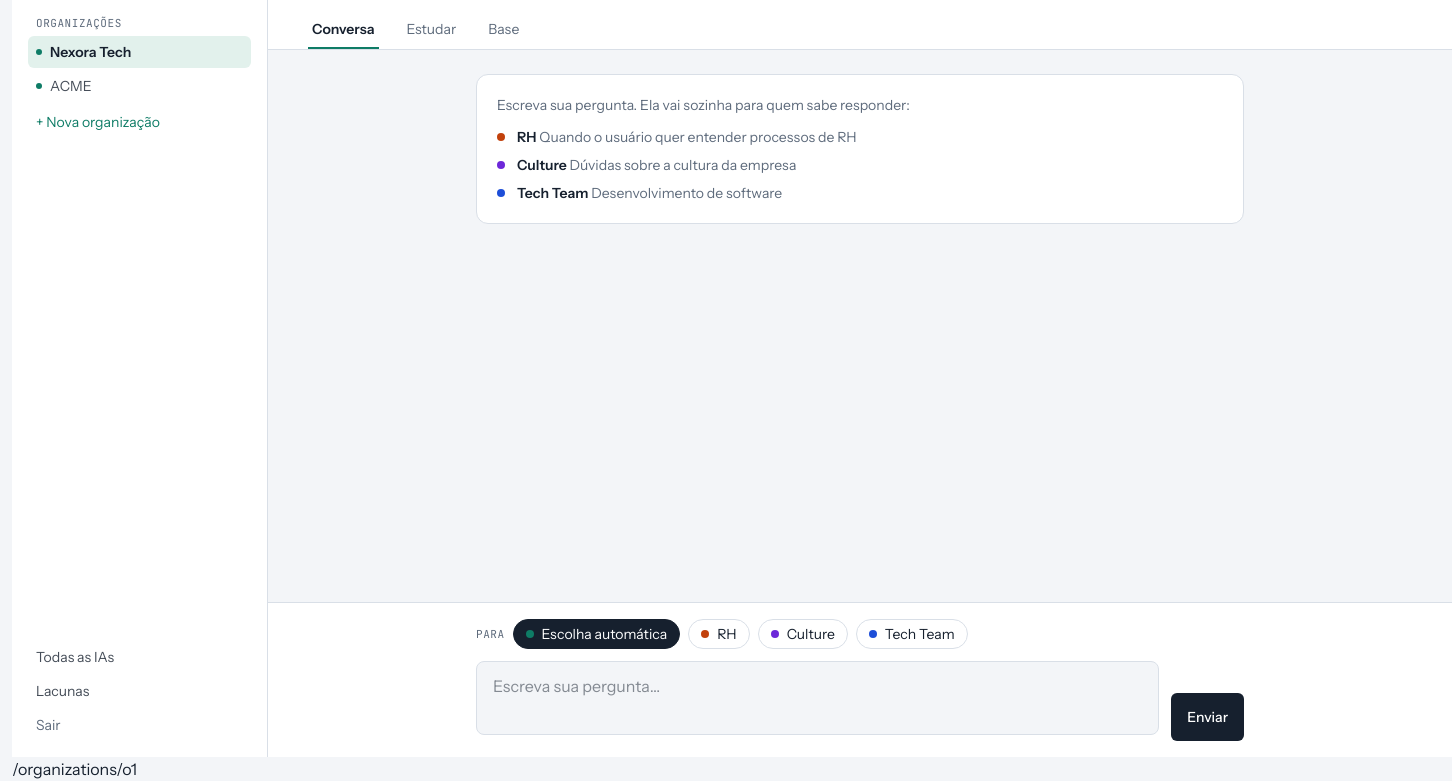
Test: organization chat › pinned assistant is asked directly
The width and height of the screenshot is (1452, 781).
(page scrolled)
Click the radio button labelled "Tech Team".
click(912, 634)  # box [856,619,968,649]
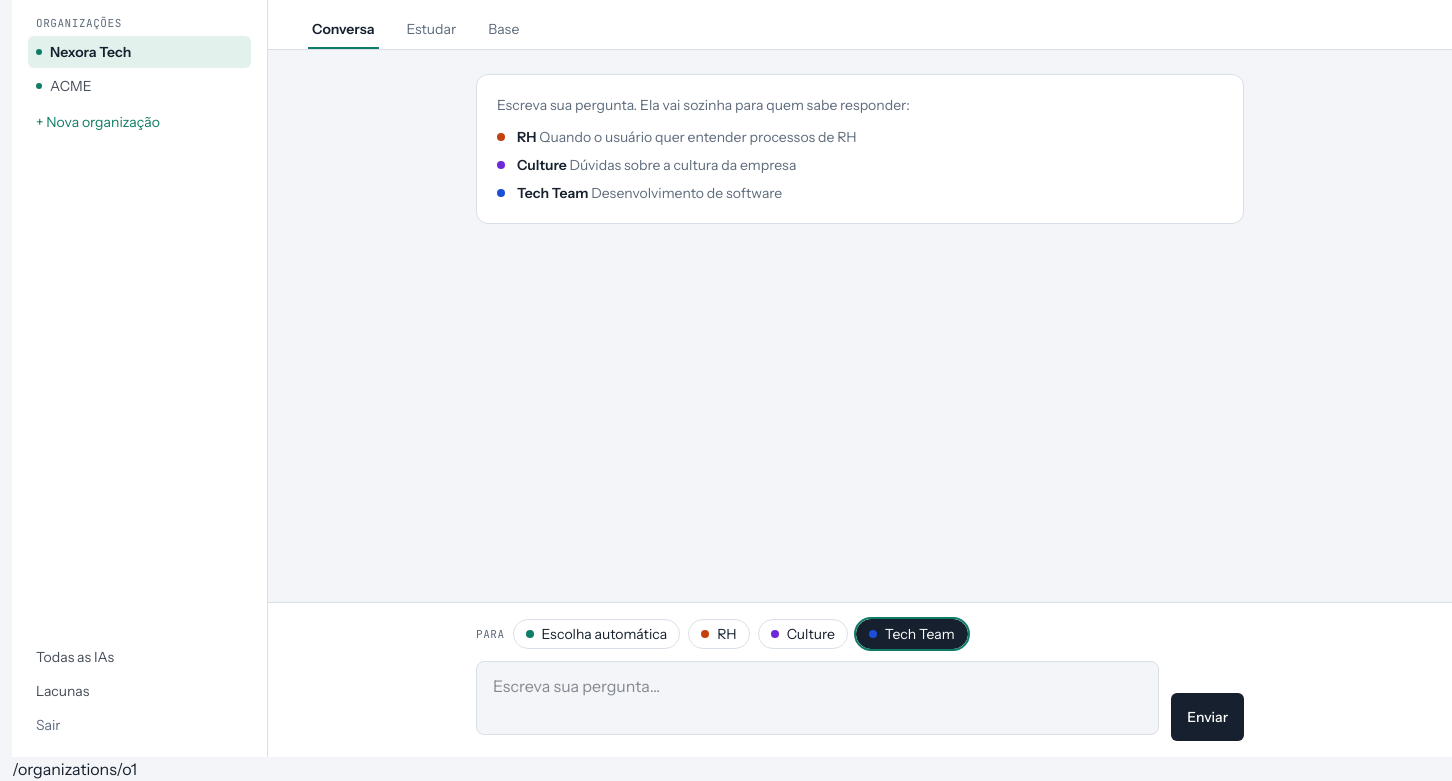
Type "Como faço deploy?" into the text box named "Mensagem".
click(818, 698); type("Como faço deploy?")  # box [476,661,1159,735]
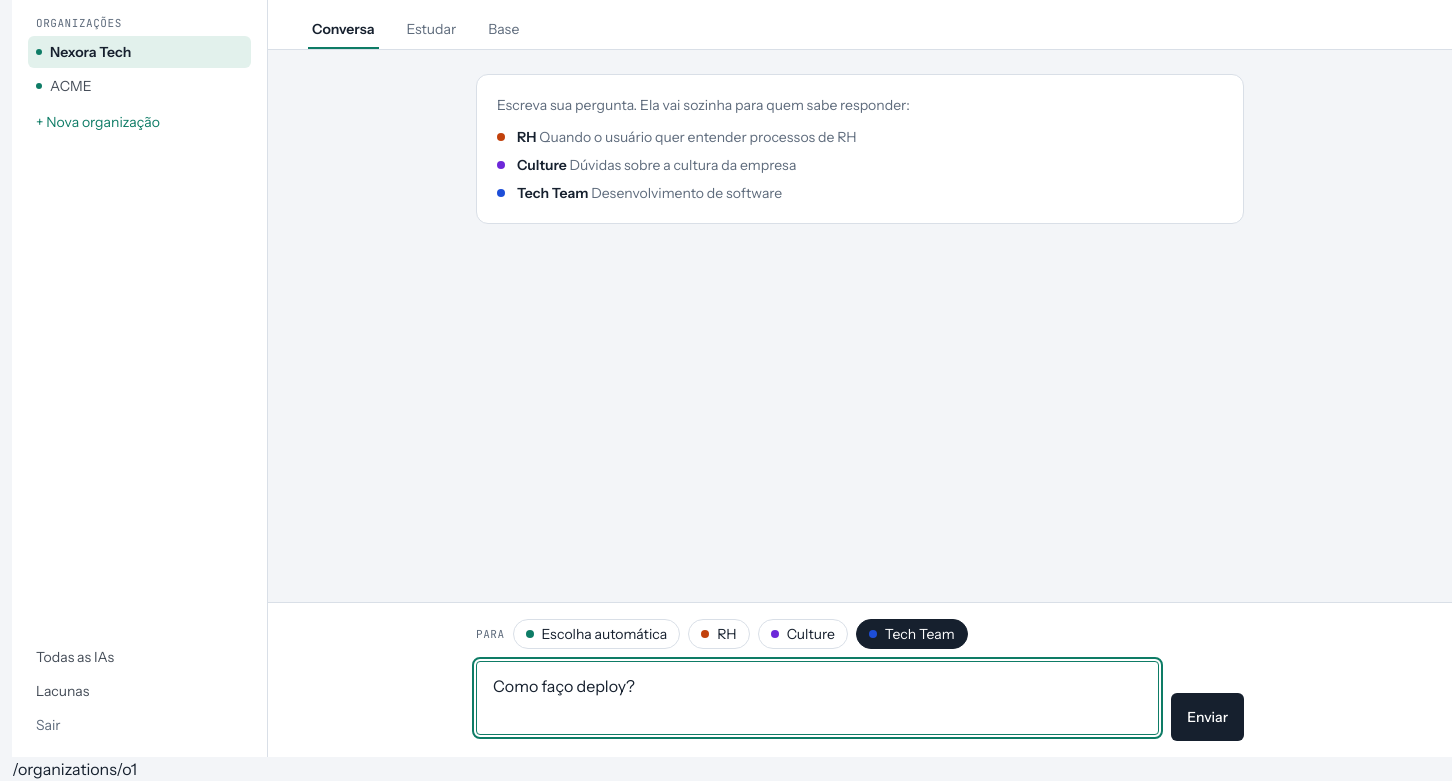
Click the button "Enviar".
click(1208, 717)  # box [1171,693,1244,741]
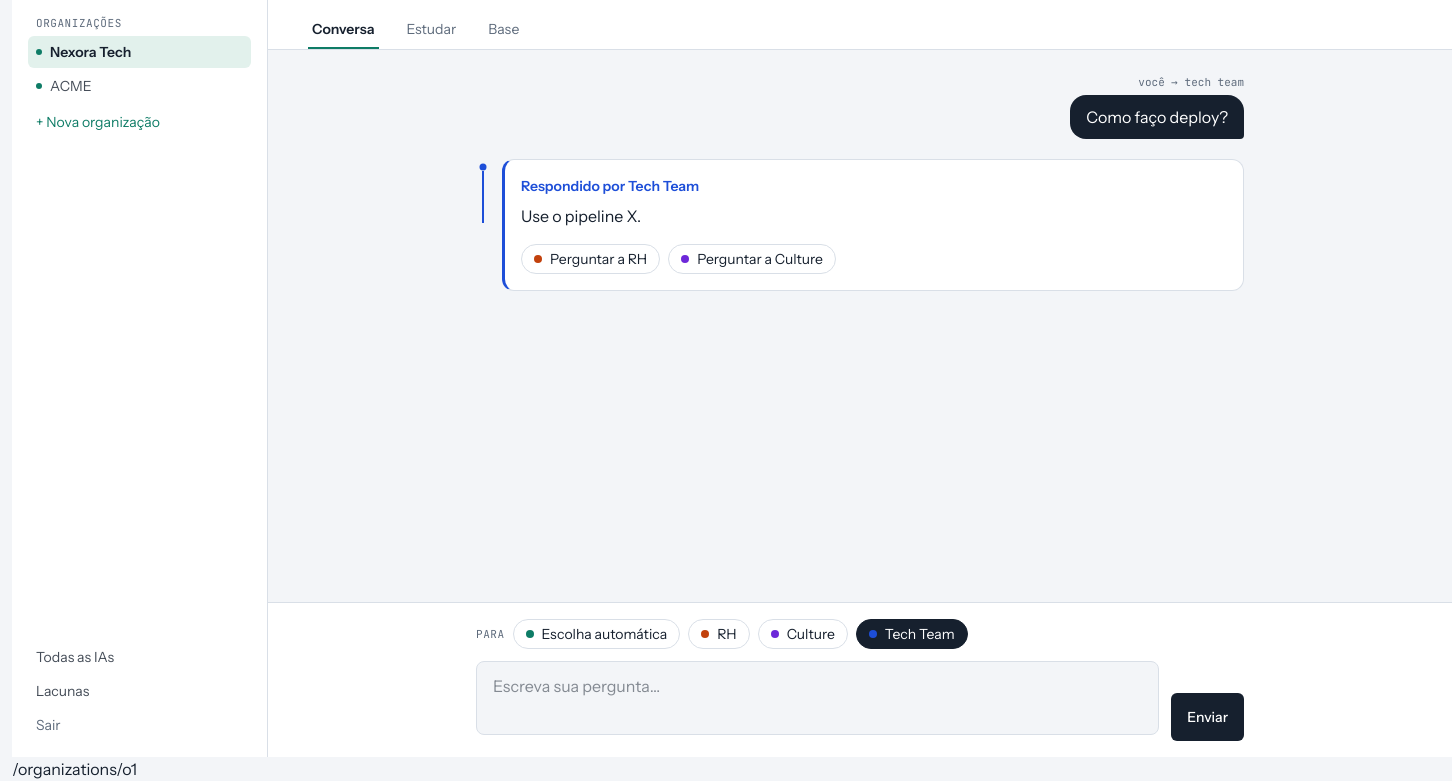
Expected: the text "Respondido por Tech Team" is shown, [521,176,699,196]
